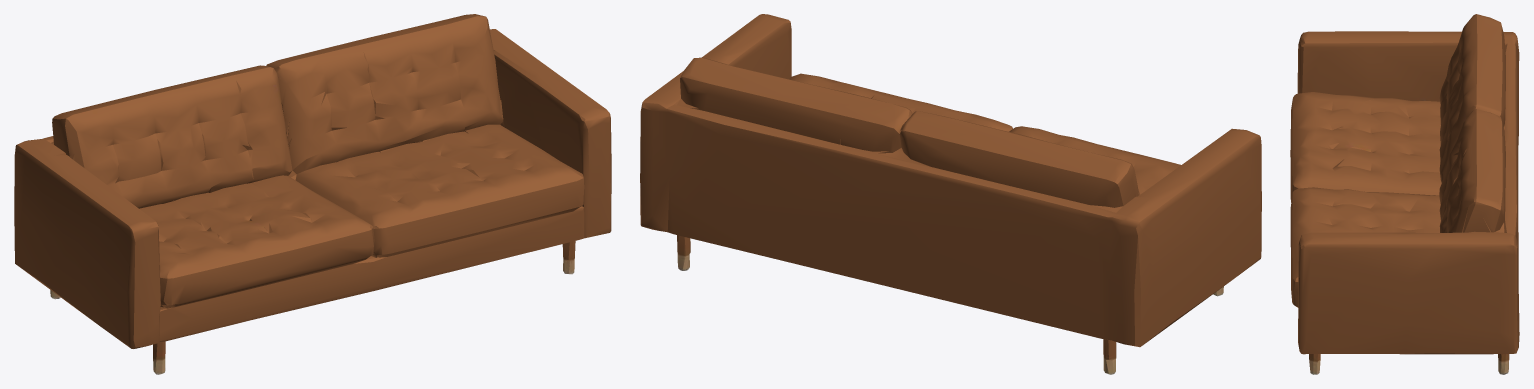
File: 30 - LANDSKRONA - 三人座沙發，GrannBomstad 金棕色木頭 IKEA 線上購物.glb
The picture shows the model from 3 angles, left to right: view 1: azimuth 30°, elevation 25°; view 2: azimuth 150°, elevation 25°; view 3: azimuth 270°, elevation 25°; orthographic projection. The views are drawn at different scales.
Parts seen in each view (by area): view 1: ProcessedMeshNode; view 2: ProcessedMeshNode; view 3: ProcessedMeshNode.
Part boxes in pixels (x1,y1,x2,y2): ProcessedMeshNode: (14, 14, 611, 374); ProcessedMeshNode: (640, 14, 1261, 374); ProcessedMeshNode: (1290, 14, 1519, 374).
Bounding box in the file's own units: 2.06 × 0.7834 × 0.9221.
Materials: 1 (1 with a texture image).
